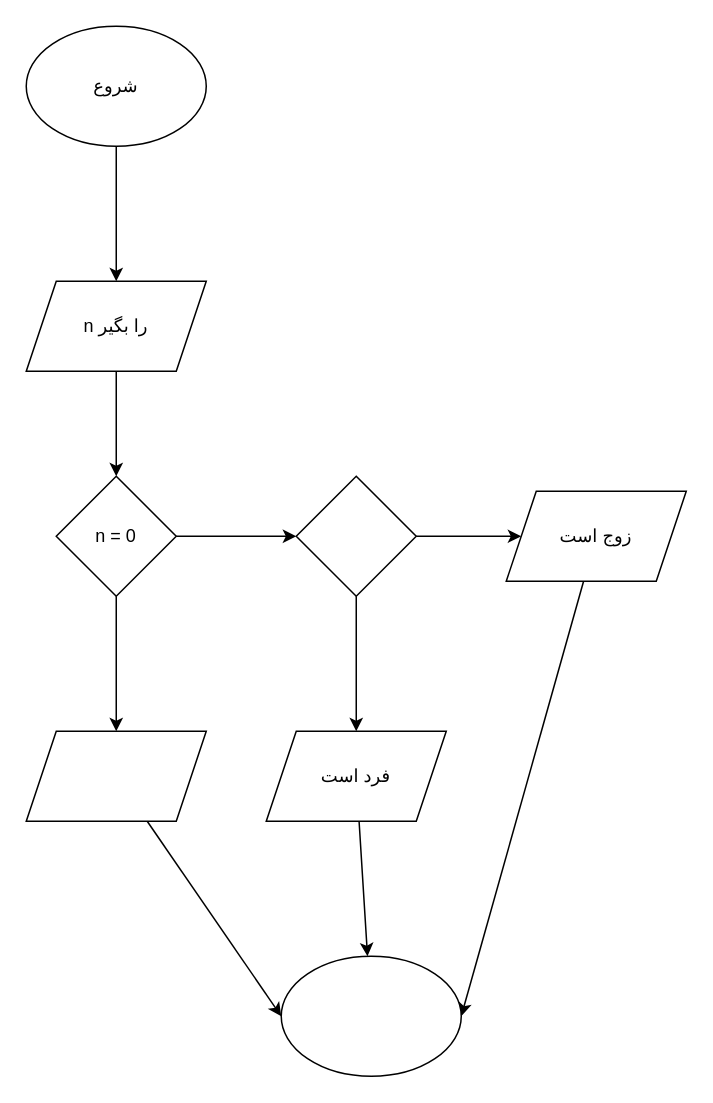
Some shapes in this 713 by 1103 pixel diagram are drawn without their labels. The centre of each missing label's shape, as x and y in pixels:
n % 2 = 0: pixel 355 535
صفر است: pixel 115 775
پایان: pixel 370 1015
